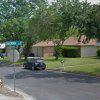Car: (20, 52, 47, 75)
